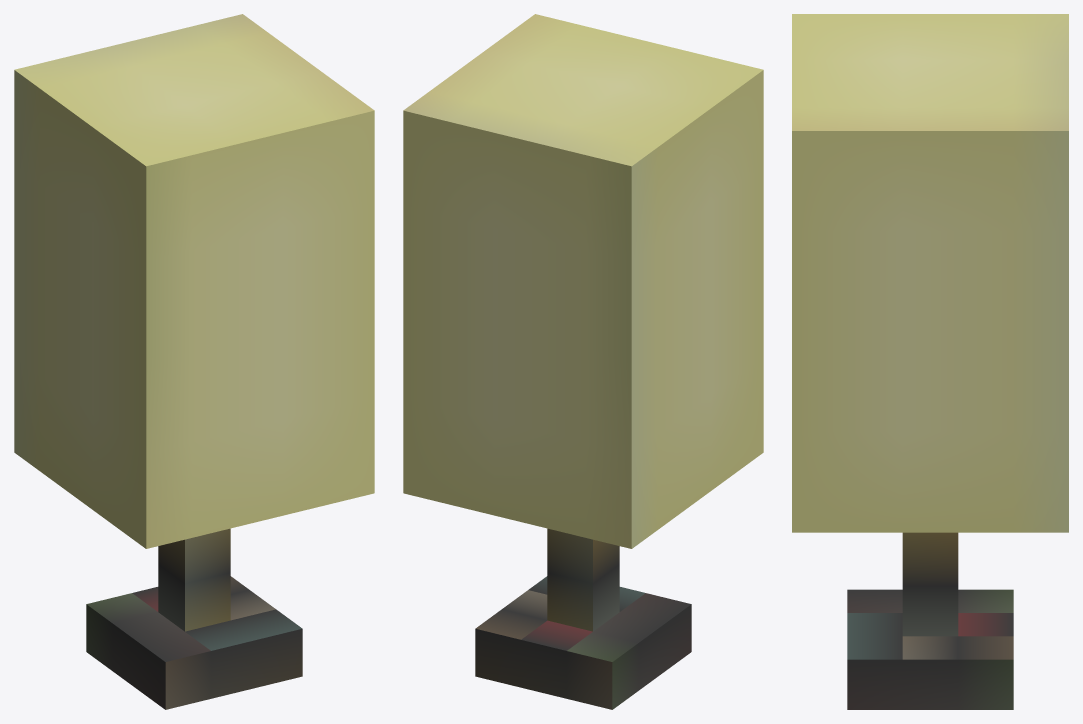
File: LampYellow_01.fbx
3 renders of one model, left to right at view 1: azimuth 30°, elevation 25°; view 2: azimuth 150°, elevation 25°; view 3: azimuth 270°, elevation 25°, orthographic. The views are drawn at different scales.
Visible parts, largest first — view 1: LampYellow_01; view 2: LampYellow_01; view 3: LampYellow_01.
Boxes of the visible parts, x1,y1,x2,y2 form: LampYellow_01: (14, 14, 374, 709); LampYellow_01: (403, 14, 763, 709); LampYellow_01: (792, 14, 1068, 709).
Size of the model in its own units: 25 by 25 by 60.
2 materials, 2 textured.
